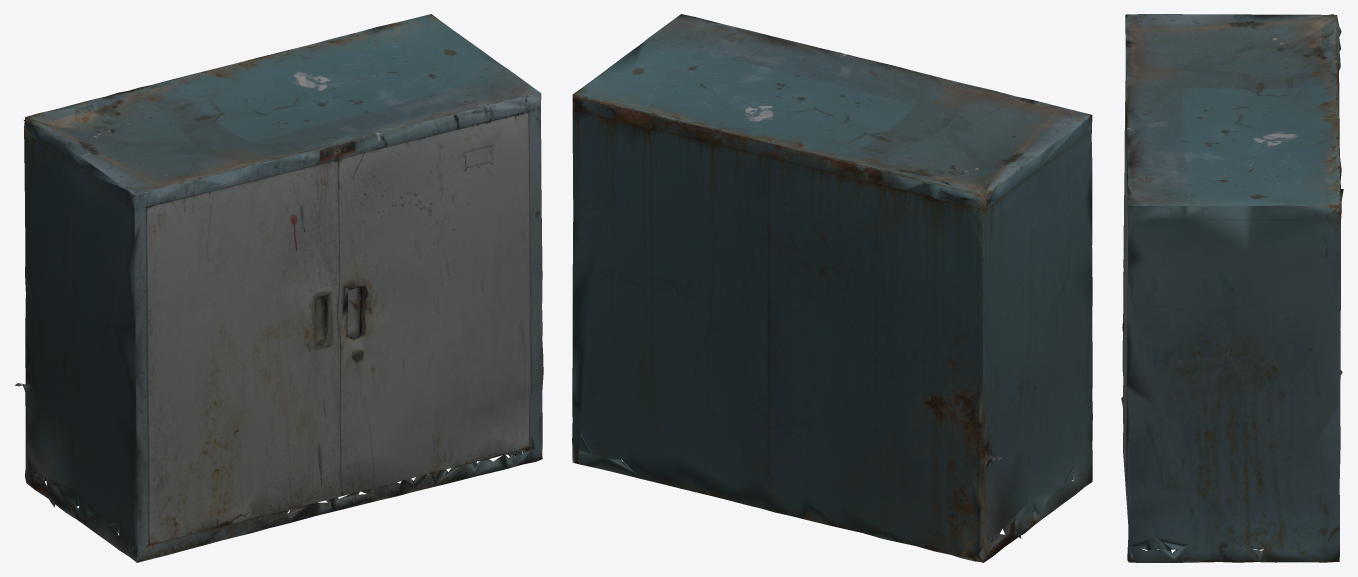
The model's file is PX_Old_Tin_Cabinet_01_LOD3.fbx.
3 views of the same model, side by side, from view 1: azimuth 30°, elevation 25°; view 2: azimuth 150°, elevation 25°; view 3: azimuth 270°, elevation 25° (orthographic). The views are drawn at different scales.
Parts seen in each view (by area): view 1: PX_Old_Tin_Cabinet_01_LOD3; view 2: PX_Old_Tin_Cabinet_01_LOD3; view 3: PX_Old_Tin_Cabinet_01_LOD3.
Part boxes in pixels (left/top/right/bottom): PX_Old_Tin_Cabinet_01_LOD3: left=14, top=14, right=543, bottom=562; PX_Old_Tin_Cabinet_01_LOD3: left=572, top=14, right=1092, bottom=562; PX_Old_Tin_Cabinet_01_LOD3: left=1121, top=14, right=1343, bottom=562.
Size of the model in its own units: 79.77 by 66.33 by 37.22.
